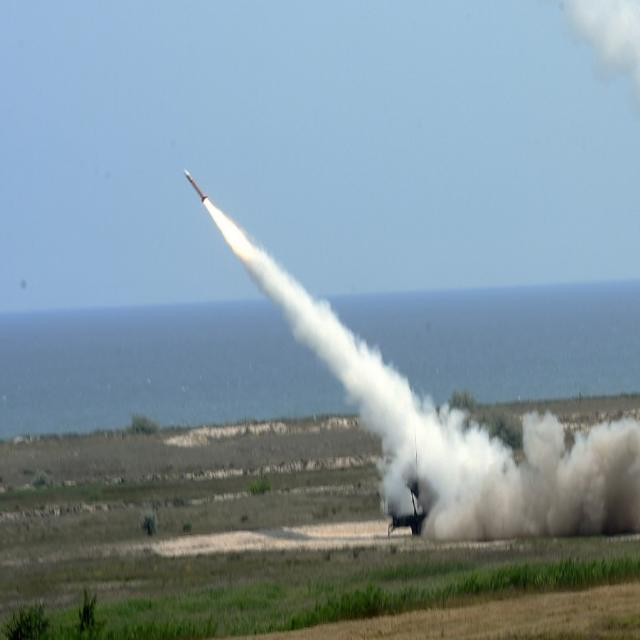missile: (178, 161, 208, 211)
